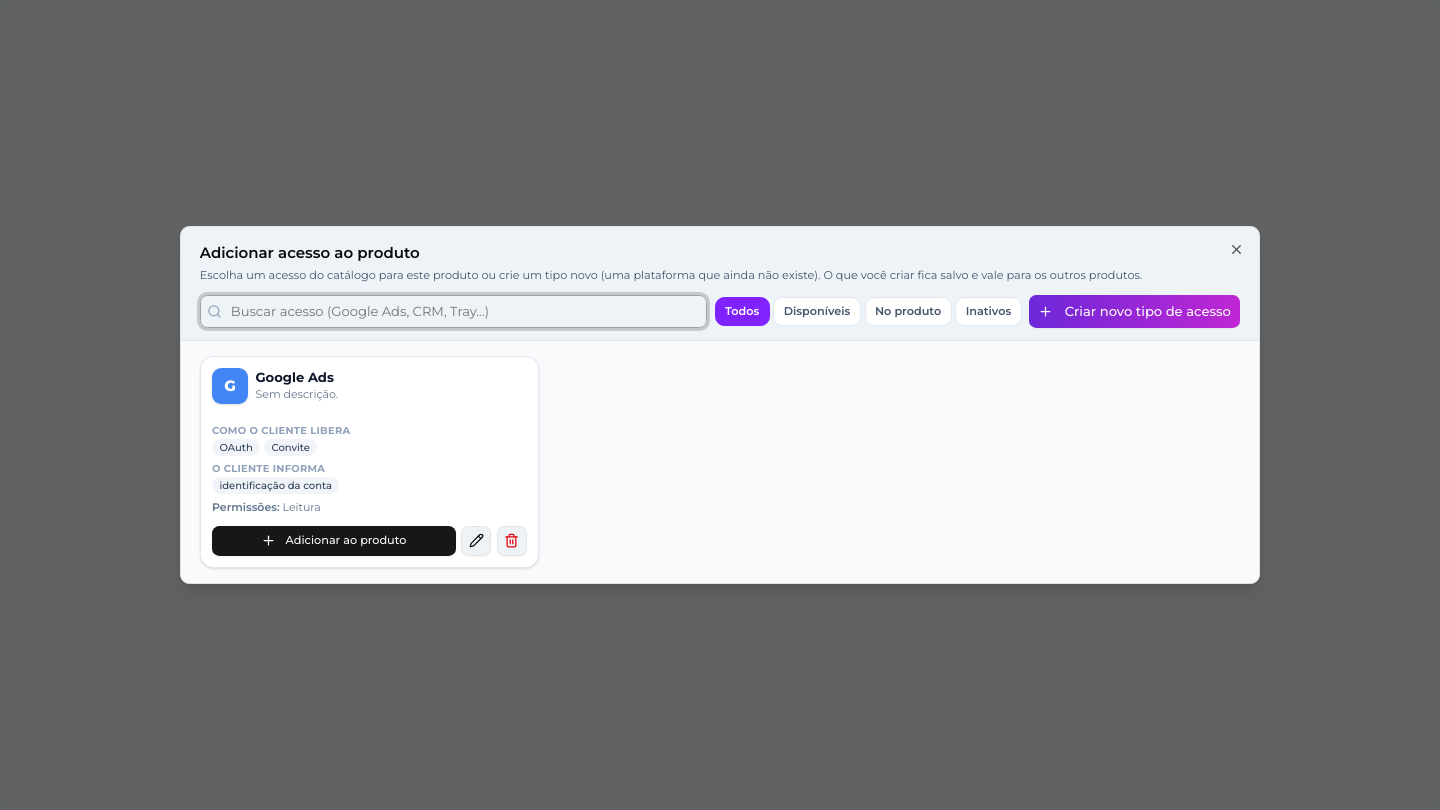
it: catálogo de tipos de acesso (admin) › lista o catálogo e cria um tipo novo com liberação por API e um campo
Later steps or results of the test are not shown.
Expected: the text "Google Ads" is shown, [256,369,334,385]
Click the button with test id "new-access-type". click: (1135,311)
box: [1029,294,1240,328]
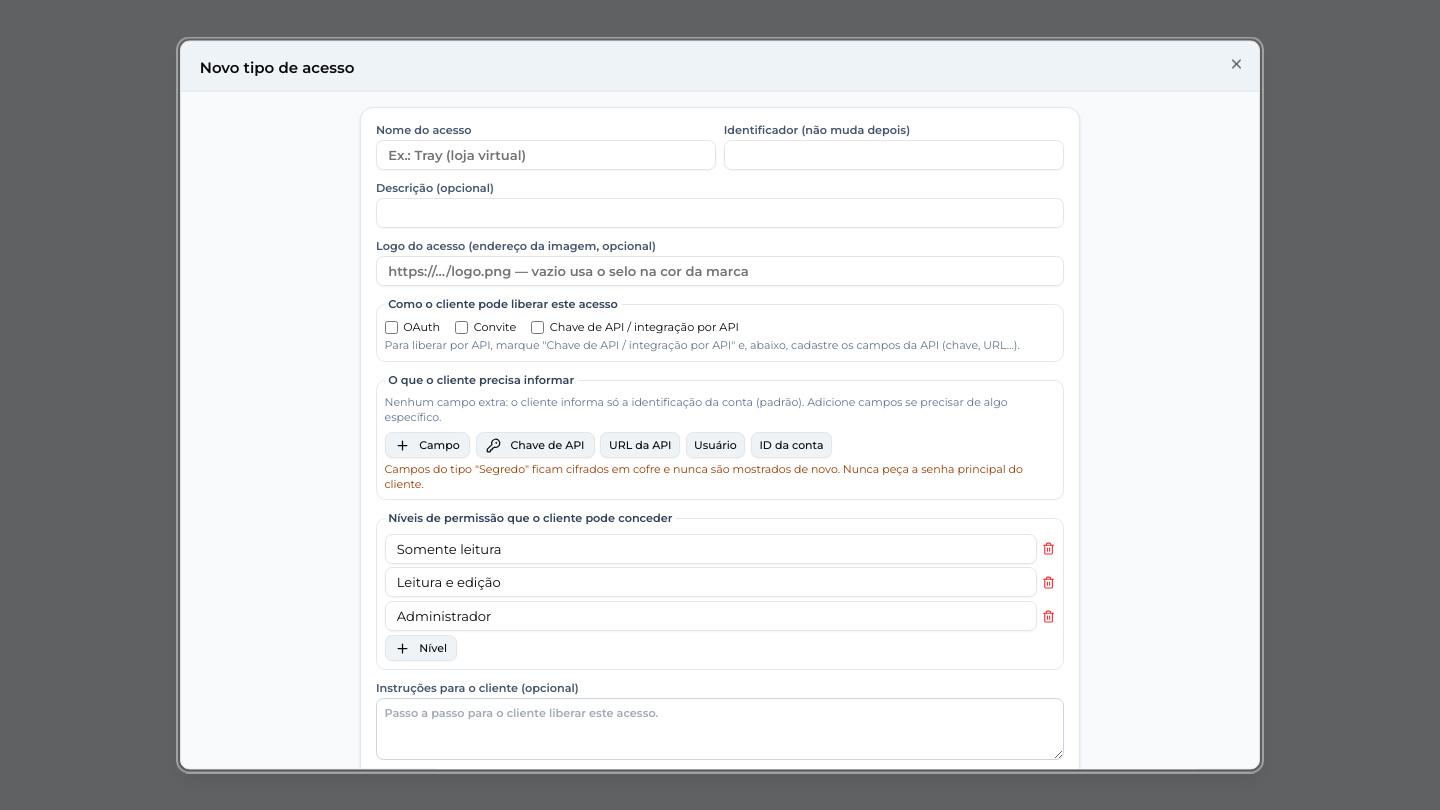
Type "Tray Loja" into the field labelled "Nome do acesso". click: (546,154)
box: [376,139,716,169]
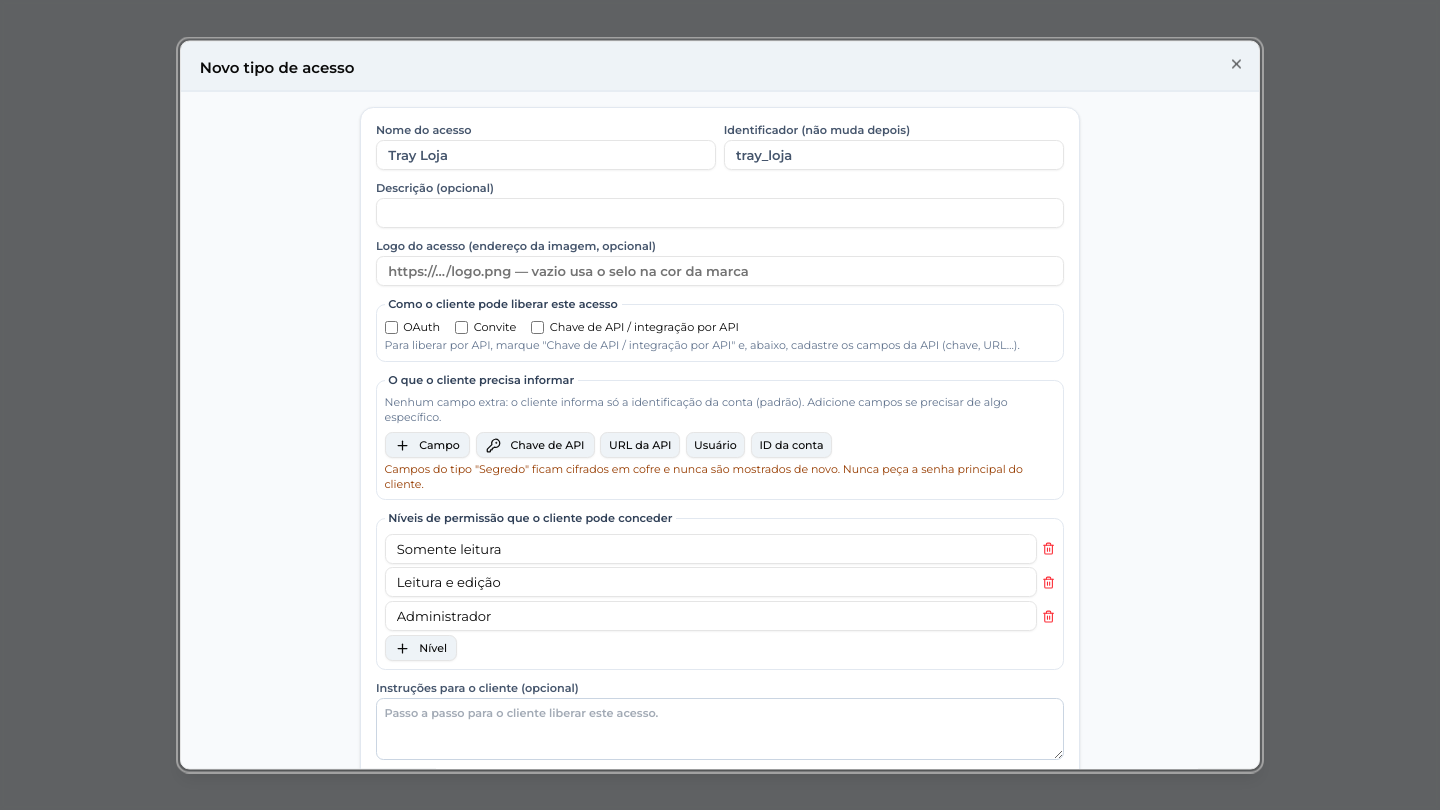
Now the field named "Identificador do acesso" holds "tray_loja", box [724,139,1064,169]
